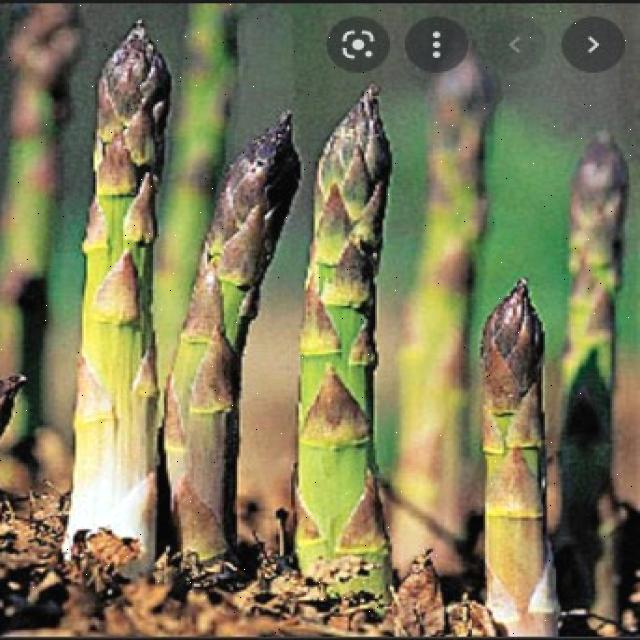aspargus: (63, 22, 170, 579)
